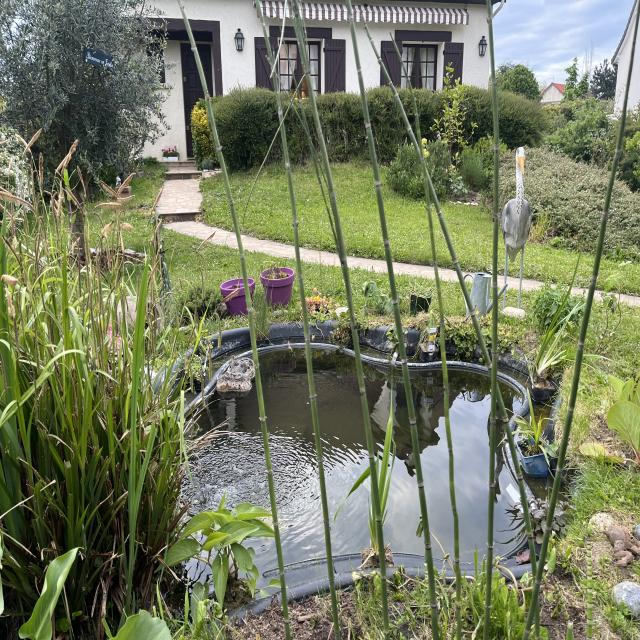Heron: (491, 140, 546, 318)
